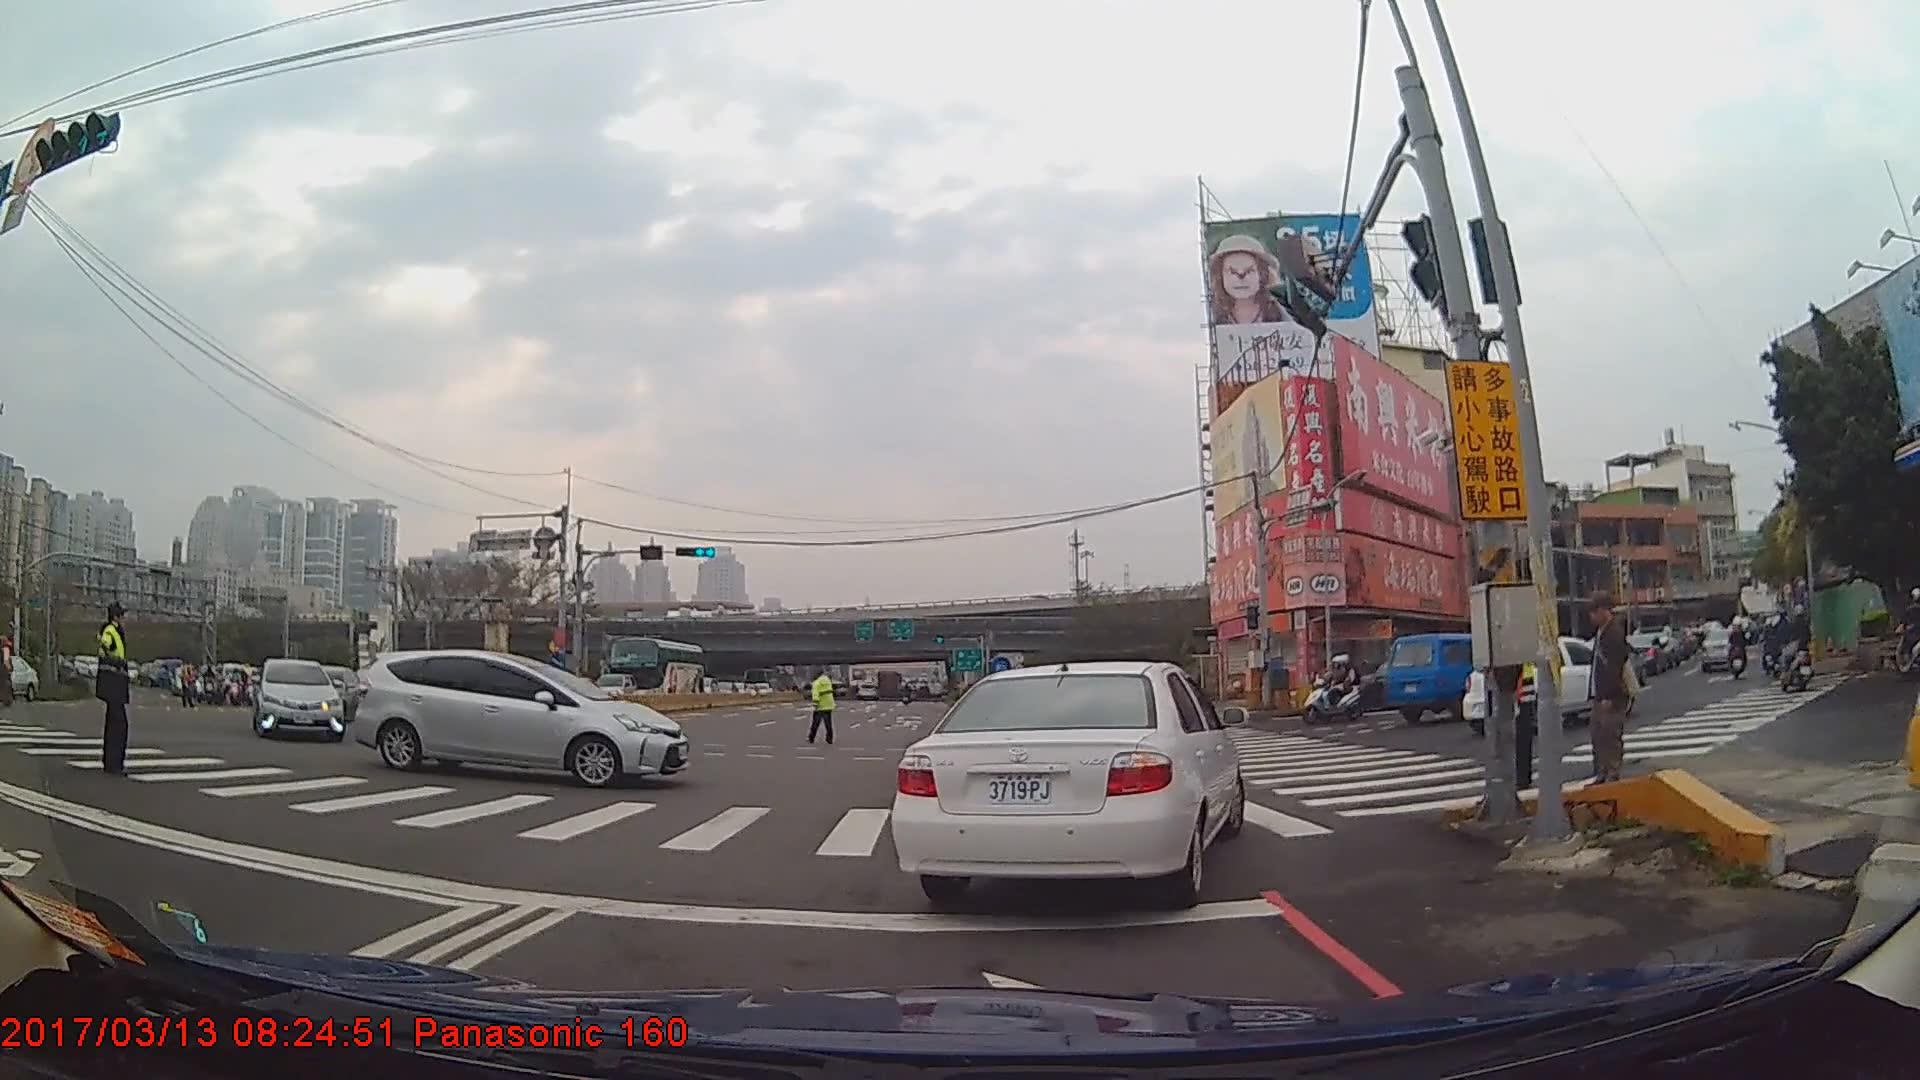pedestrian: (1577, 588, 1641, 794), (83, 599, 135, 781), (807, 665, 839, 747)
rider: (1300, 657, 1364, 730), (1777, 607, 1816, 695), (1893, 584, 1920, 679), (1773, 615, 1795, 682), (1728, 618, 1750, 682), (1760, 617, 1781, 677)
vehicle: (892, 660, 1247, 901), (350, 647, 691, 788), (1456, 637, 1631, 734), (1385, 631, 1543, 725), (252, 656, 346, 740), (601, 634, 705, 704), (1696, 624, 1744, 672), (1620, 632, 1666, 676), (0, 650, 40, 701)
